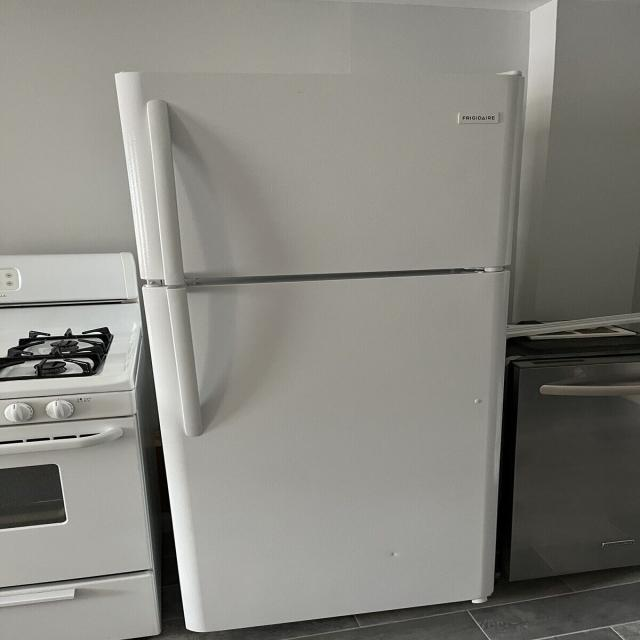refrigerator: (118, 69, 528, 631)
